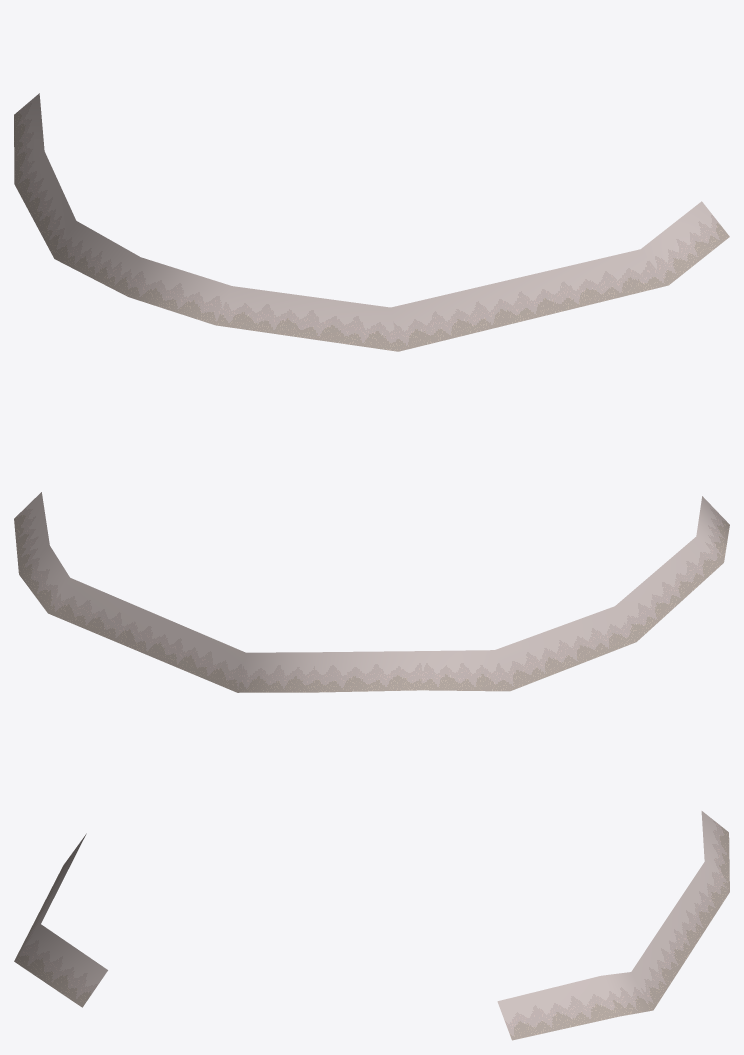
File: kd_stage_1364a3_7_23.glb
3 views of the same model, one above another, from view 1: azimuth 30°, elevation 25°; view 2: azimuth 150°, elevation 25°; view 3: azimuth 270°, elevation 25° (orthographic). The views are drawn at different scales.
Parts seen in each view (by area): view 1: kd_stage_1364a3_7_23; view 2: kd_stage_1364a3_7_23; view 3: kd_stage_1364a3_7_23.
Part boxes in pixels (<box>): kd_stage_1364a3_7_23: <box>14,93,729,351</box>; kd_stage_1364a3_7_23: <box>14,492,729,692</box>; kd_stage_1364a3_7_23: <box>14,811,729,1040</box>.
Bounding box in the file's own units: 172 × 17.37 × 175.
1 material, 1 textured.
